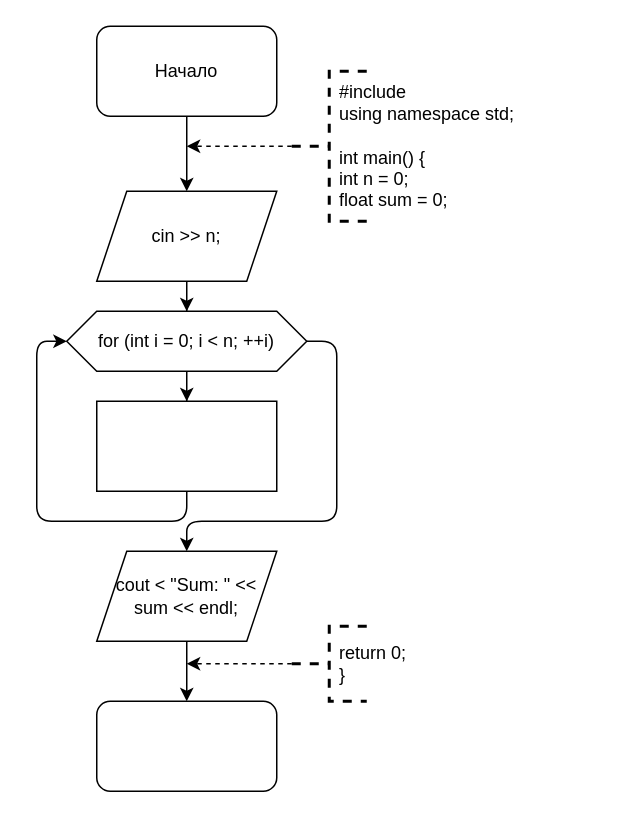
The diagram is 618 pixels wide and 818 high, and some of its shapes have lost their labels. The shapes that lost their labels are listed below. From the top down, each one's box as (x1, y1, x2, y2) in pixels, then its label:
(95, 400, 277, 491): sum += sin(n + i / n);
(95, 700, 277, 791): Конец
